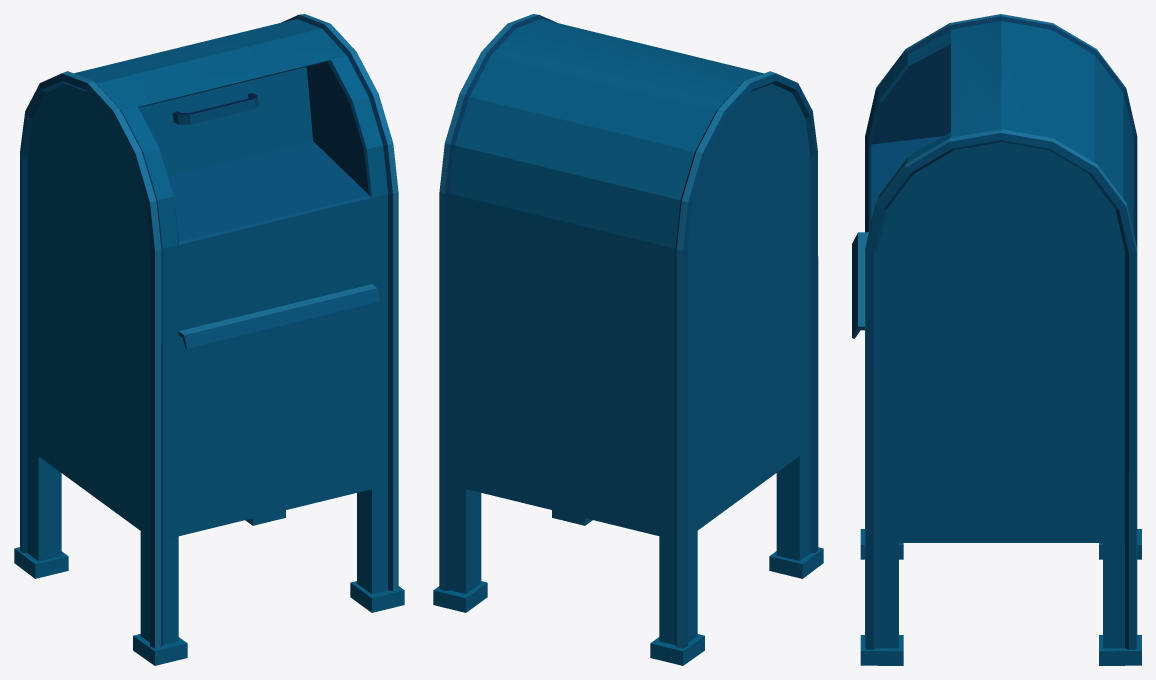
File: Mail Box.fbx
3 renders of one model, left to right at view 1: azimuth 30°, elevation 25°; view 2: azimuth 150°, elevation 25°; view 3: azimuth 270°, elevation 25°, orthographic.
Visible parts, largest first — view 1: MailBox; view 2: MailBox; view 3: MailBox.
Part boxes in pixels (bbox=[...]): MailBox: bbox=[14, 14, 404, 665]; MailBox: bbox=[433, 14, 823, 665]; MailBox: bbox=[852, 14, 1141, 665].
Size of what is drawn, in the model's own units: 0.6425 by 1.3 by 0.6421.
